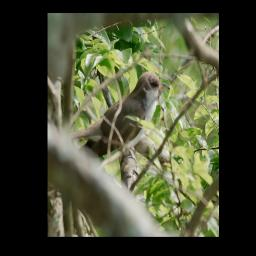Cuckoo: (68, 70, 170, 161)
